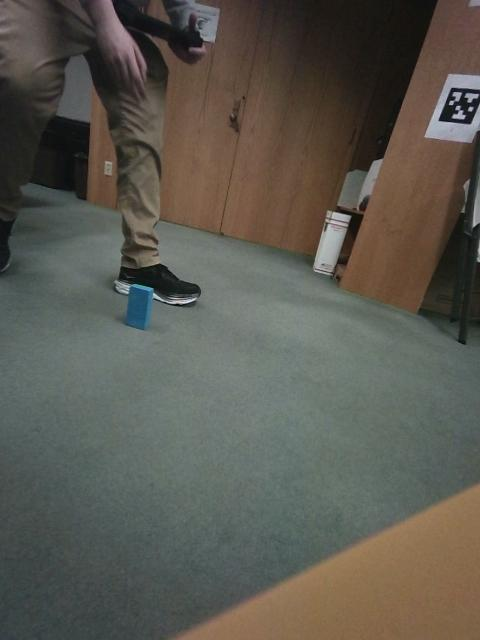block: (424, 361, 473, 404)
